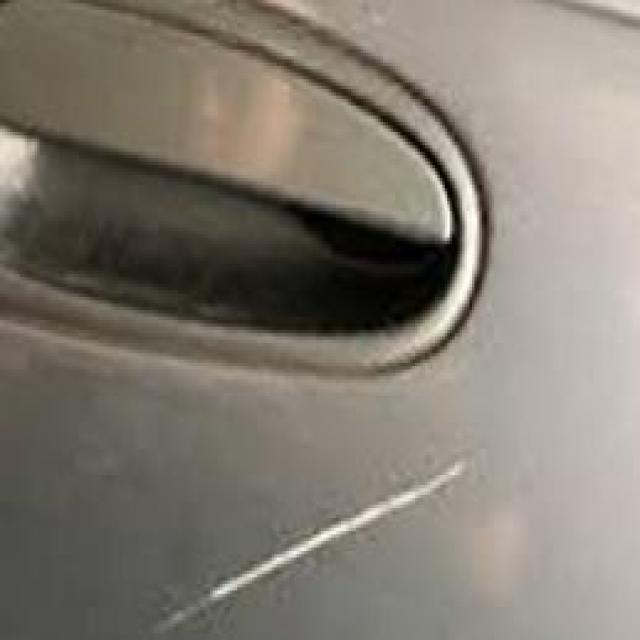scratch: (110, 429, 496, 640)
